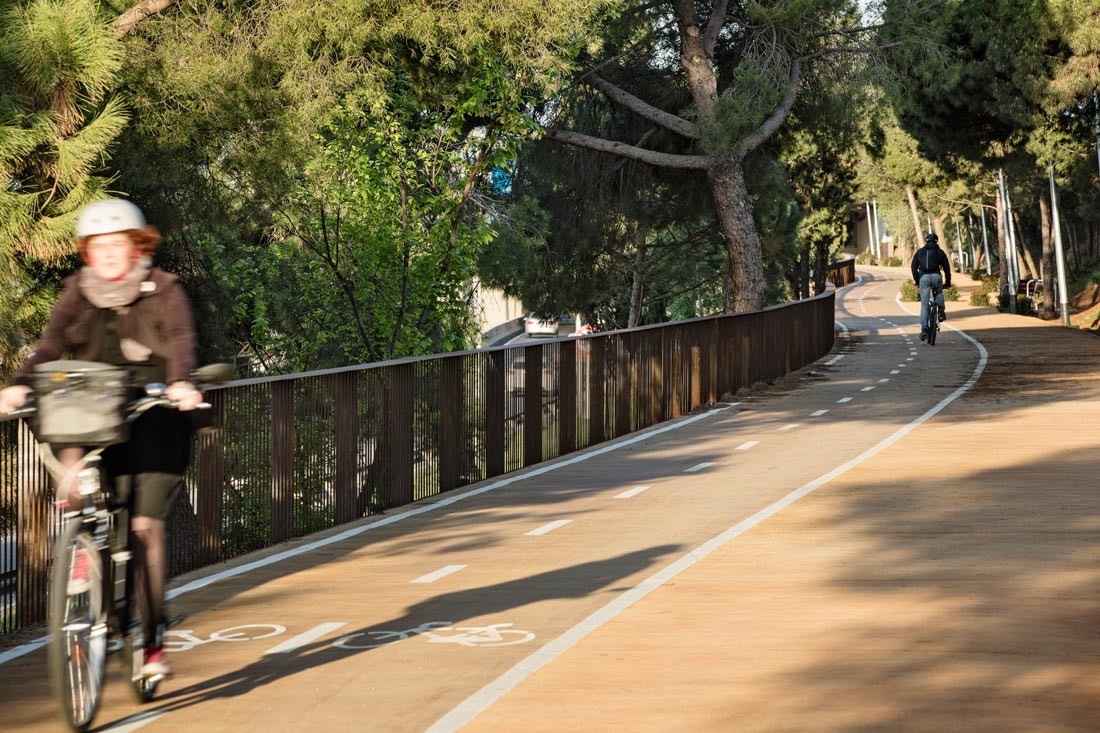commuter: (1, 197, 206, 733), (913, 233, 954, 354)
